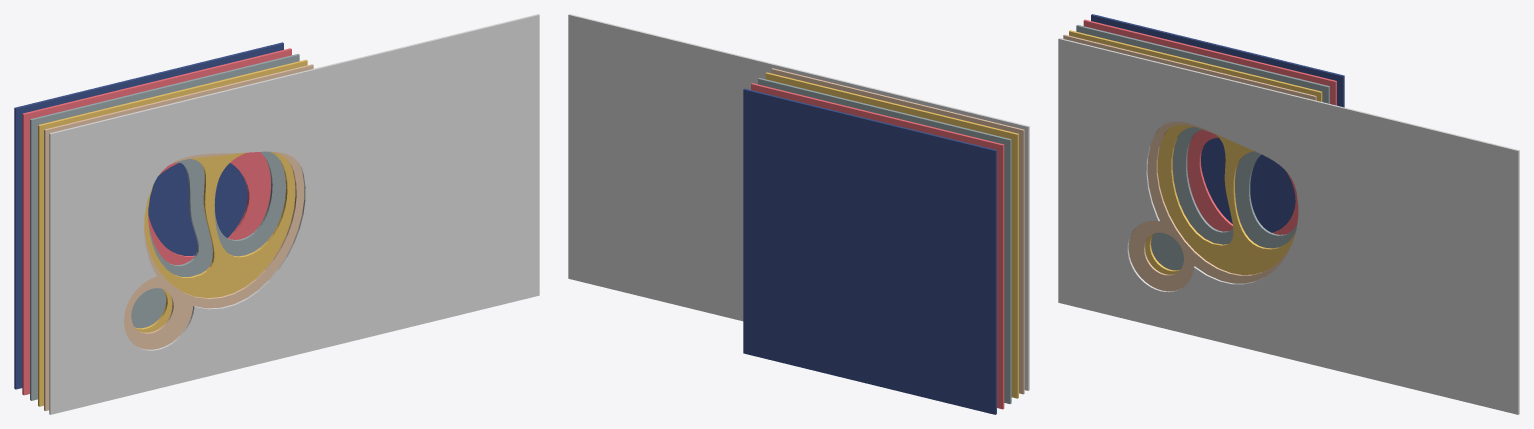
The picture shows the model from 3 angles, left to right: view 1: azimuth 30°, elevation 25°; view 2: azimuth 150°, elevation 25°; view 3: azimuth 330°, elevation 25°; orthographic projection. The views are drawn at different scales.
Parts seen in each view (by area): view 1: Plane.001, Plane.004, Plane.003, Plane.006, Plane.002, Plane.005; view 2: Plane.006, Plane.001, Plane.003, Plane.005, Plane.004, Plane.002; view 3: Plane.001, Plane.003, Plane.004, Plane.006, Plane.002, Plane.005.
Boxes of the visible parts, <box> form: Plane.001: <box>49,14,539,414</box>; Plane.004: <box>30,54,299,400</box>; Plane.003: <box>38,59,307,406</box>; Plane.006: <box>14,42,283,389</box>; Plane.002: <box>44,64,313,410</box>; Plane.005: <box>22,48,291,395</box>; Plane.006: <box>743,88,996,414</box>; Plane.001: <box>568,14,1029,390</box>; Plane.003: <box>765,72,1018,398</box>; Plane.005: <box>751,83,1004,409</box>; Plane.004: <box>758,78,1011,403</box>; Plane.002: <box>771,68,1024,394</box>; Plane.001: <box>1058,38,1519,414</box>; Plane.003: <box>1069,30,1322,274</box>; Plane.004: <box>1076,25,1329,270</box>; Plane.006: <box>1091,14,1344,232</box>; Plane.002: <box>1063,34,1316,291</box>; Plane.005: <box>1083,19,1336,234</box>.
Bounding box in the file's own units: 2307 × 1265 × 295.
